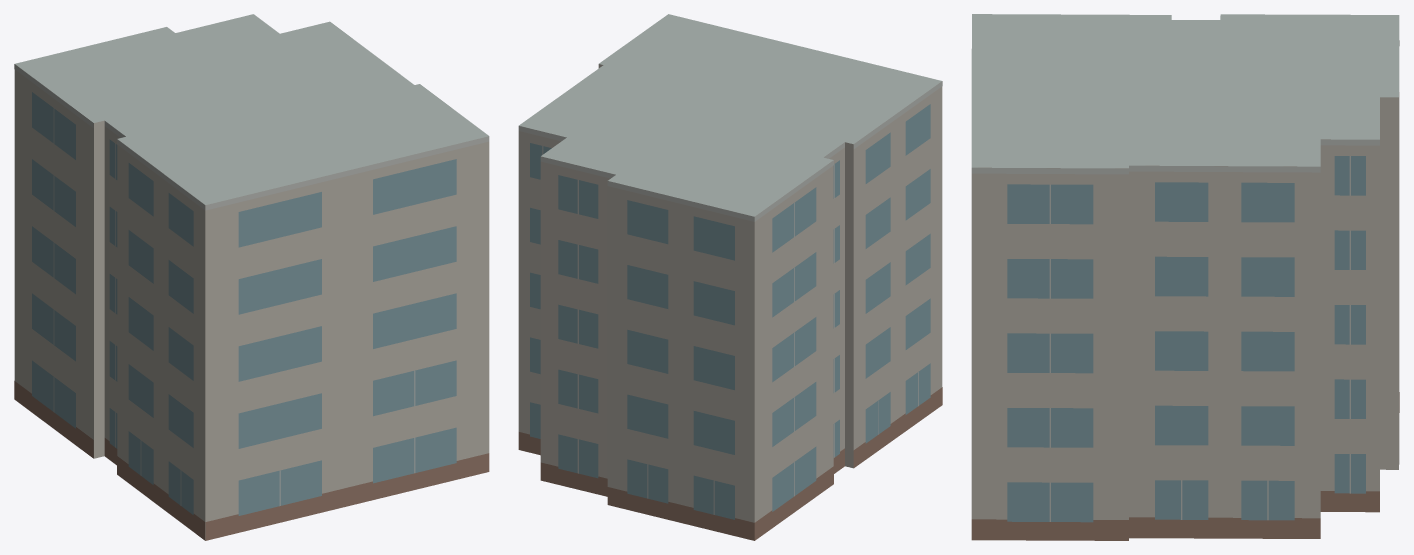
The model's file is survey-upis-32920158.glb.
The picture shows the model from 3 angles, left to right: view 1: azimuth 30°, elevation 25°; view 2: azimuth 150°, elevation 25°; view 3: azimuth 270°, elevation 25°; orthographic projection. The views are drawn at different scales.
Parts seen in each view (by area): view 1: survey-upis-32920158.tmp; view 2: survey-upis-32920158.tmp; view 3: survey-upis-32920158.tmp.
Boxes of the visible parts, x1=… form: survey-upis-32920158.tmp: x1=14, y1=14, x2=489, y2=540; survey-upis-32920158.tmp: x1=518, y1=14, x2=942, y2=540; survey-upis-32920158.tmp: x1=971, y1=14, x2=1399, y2=540.
Bounding box in the file's own units: 13.57 × 15.25 × 15.89.
